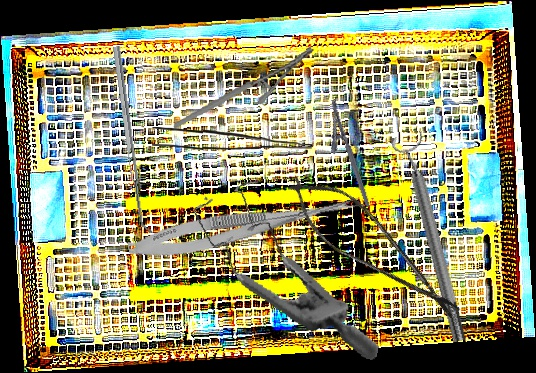Fixation Ring: (389, 130, 476, 346)
Micro Scissor: (271, 159, 478, 336), (125, 181, 363, 268)
Needle Holder: (163, 45, 324, 129), (316, 98, 371, 213)
Spatula Surgical: (112, 44, 154, 236)
Speculum: (170, 169, 409, 361)
Tissue Forceps: (151, 124, 313, 152)
